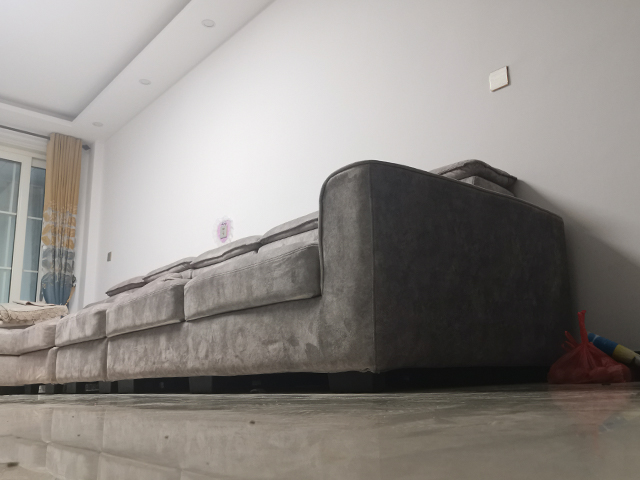curtain: (41, 127, 83, 308)
sofa: (1, 155, 575, 395)
